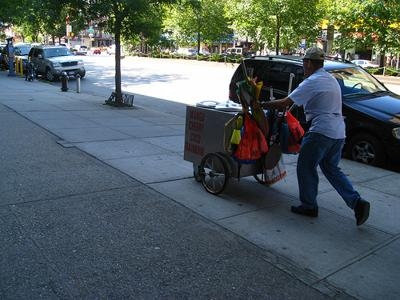person: (250, 46, 371, 226)
